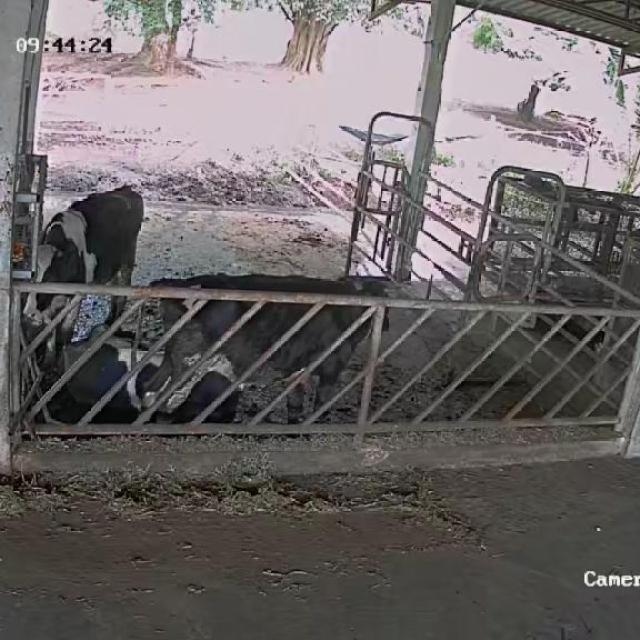lying down: (48, 322, 262, 423)
standing: (132, 268, 397, 431), (8, 186, 143, 368)
